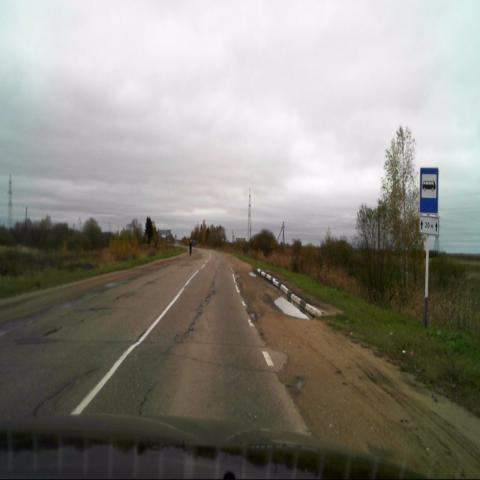8_2_1: (420, 216, 440, 237)
